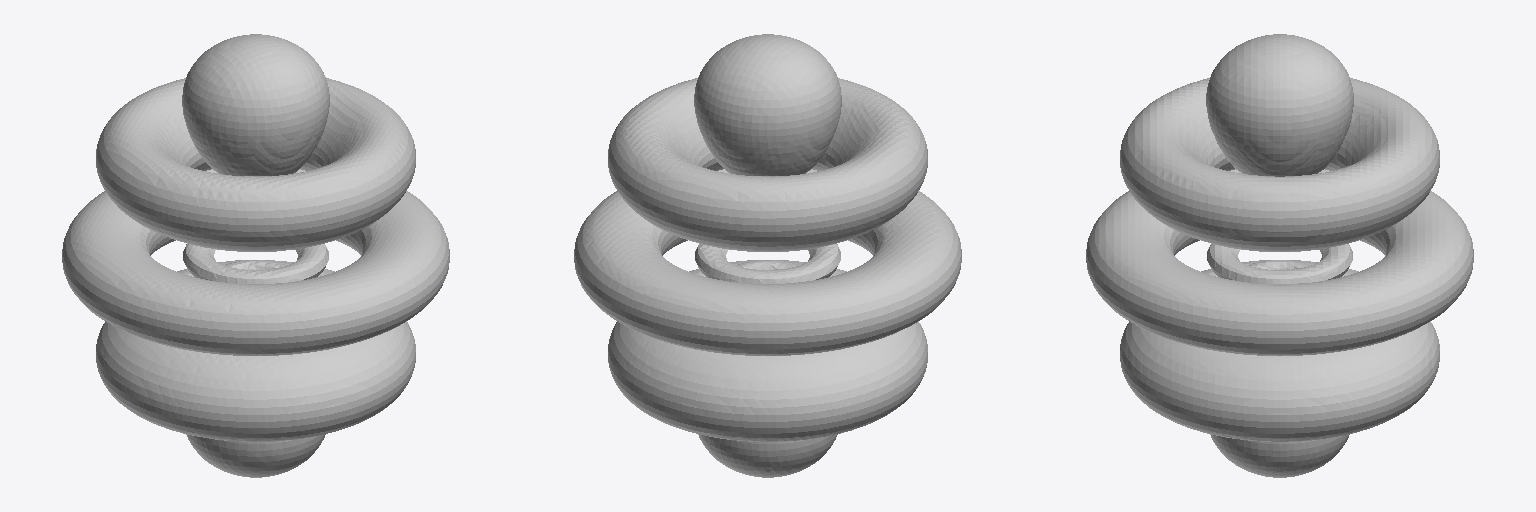
The model's file is orb_n=6_ l=4 _m=0.obj.
3 views of the same model, side by side, from view 1: azimuth 30°, elevation 25°; view 2: azimuth 150°, elevation 25°; view 3: azimuth 270°, elevation 25° (orthographic).
Parts seen in each view (by area): view 1: orb_n=6__l=4__m=0; view 2: orb_n=6__l=4__m=0; view 3: orb_n=6__l=4__m=0.
Boxes of the visible parts, <box> form: orb_n=6__l=4__m=0: <box>62,34,449,477</box>; orb_n=6__l=4__m=0: <box>574,34,961,477</box>; orb_n=6__l=4__m=0: <box>1086,34,1473,477</box>.
Size of the model in its own units: 129 by 156 by 129.